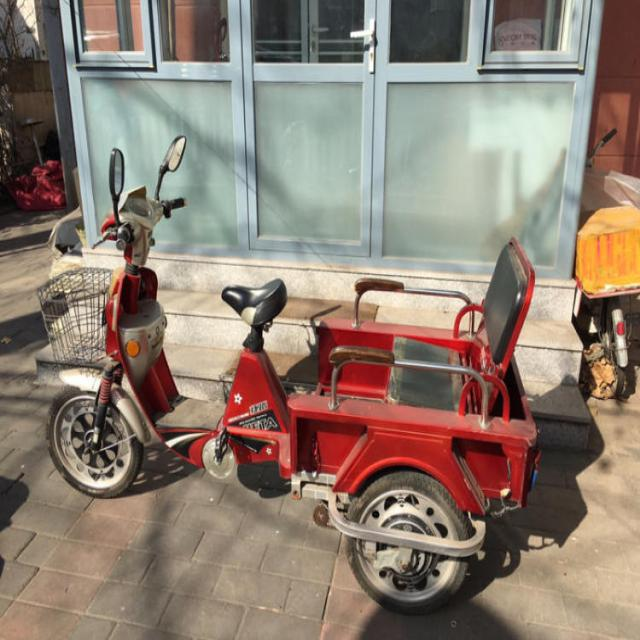bicycle: (583, 128, 628, 402)
tricycle: (34, 134, 538, 614)
